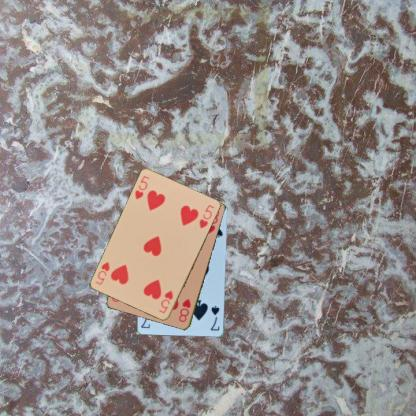5h: (132, 173, 151, 201), (156, 288, 174, 315)
7s: (208, 303, 221, 332)
8h: (176, 296, 192, 324)
